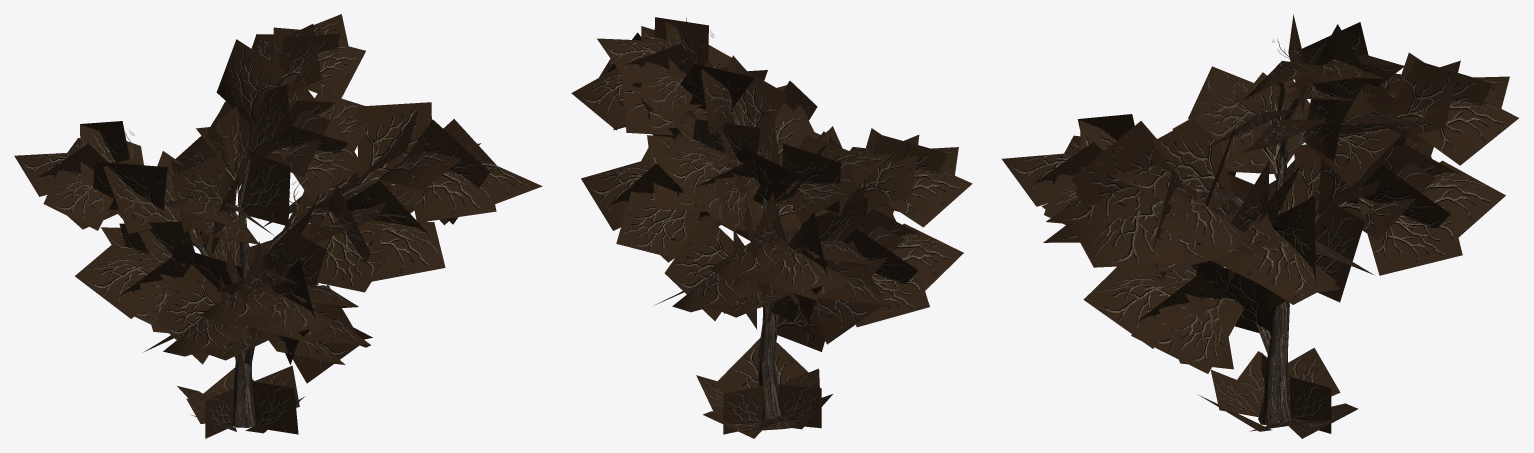
The model's file is tree907.glb.
The picture shows the model from 3 angles, left to right: view 1: azimuth 30°, elevation 25°; view 2: azimuth 150°, elevation 25°; view 3: azimuth 270°, elevation 25°; orthographic projection. The views are drawn at different scales.
Parts seen in each view (by area): view 1: tree907; view 2: tree907; view 3: tree907.
Boxes of the visible parts, <box> form: tree907: <box>14,14,542,438</box>; tree907: <box>571,17,972,438</box>; tree907: <box>1002,14,1518,438</box>.
Bounding box in the file's own units: 55.45 × 53.22 × 56.08.
3 materials, 3 textured.
